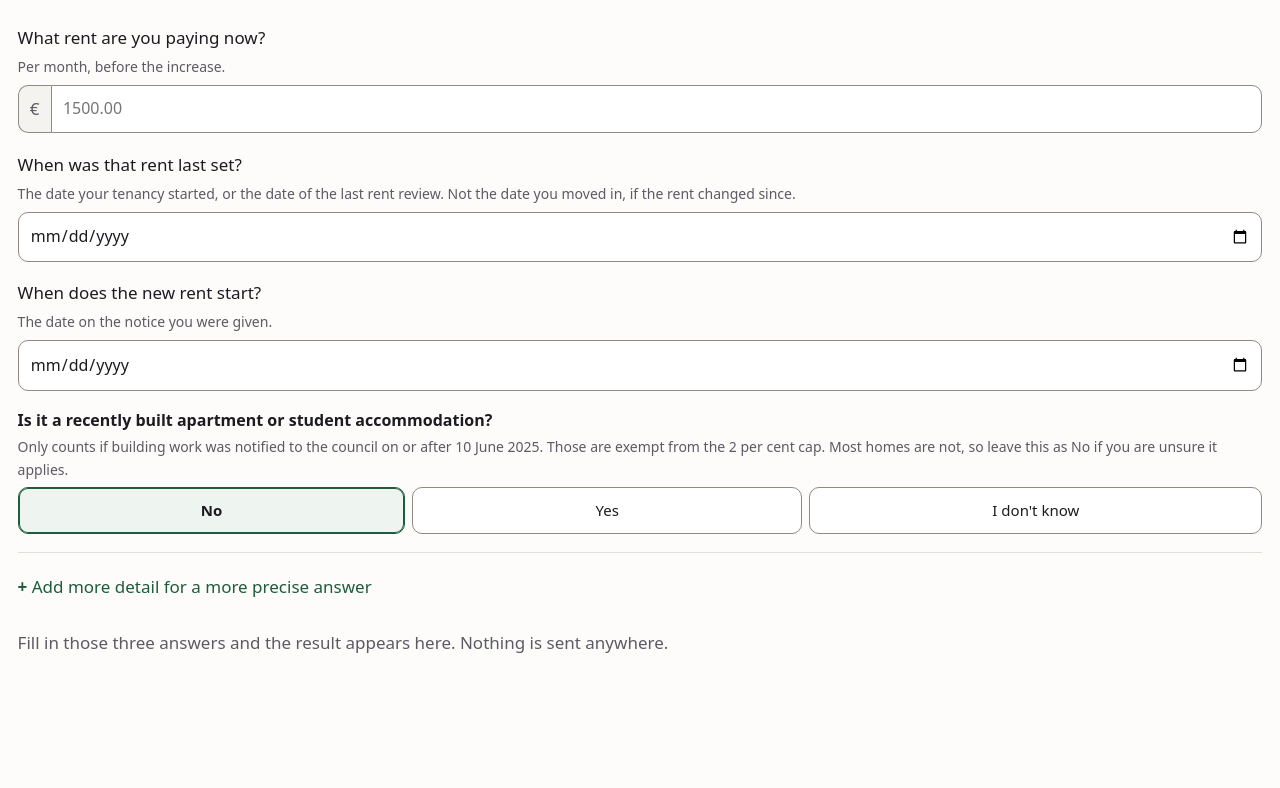
Test: the rent check, end to end through the form › judges a proposed rent that is over the limit, and says by how much
In the field labelled "What rent are you paying now?": (657, 109) [51,85,1262,133], type "2000"
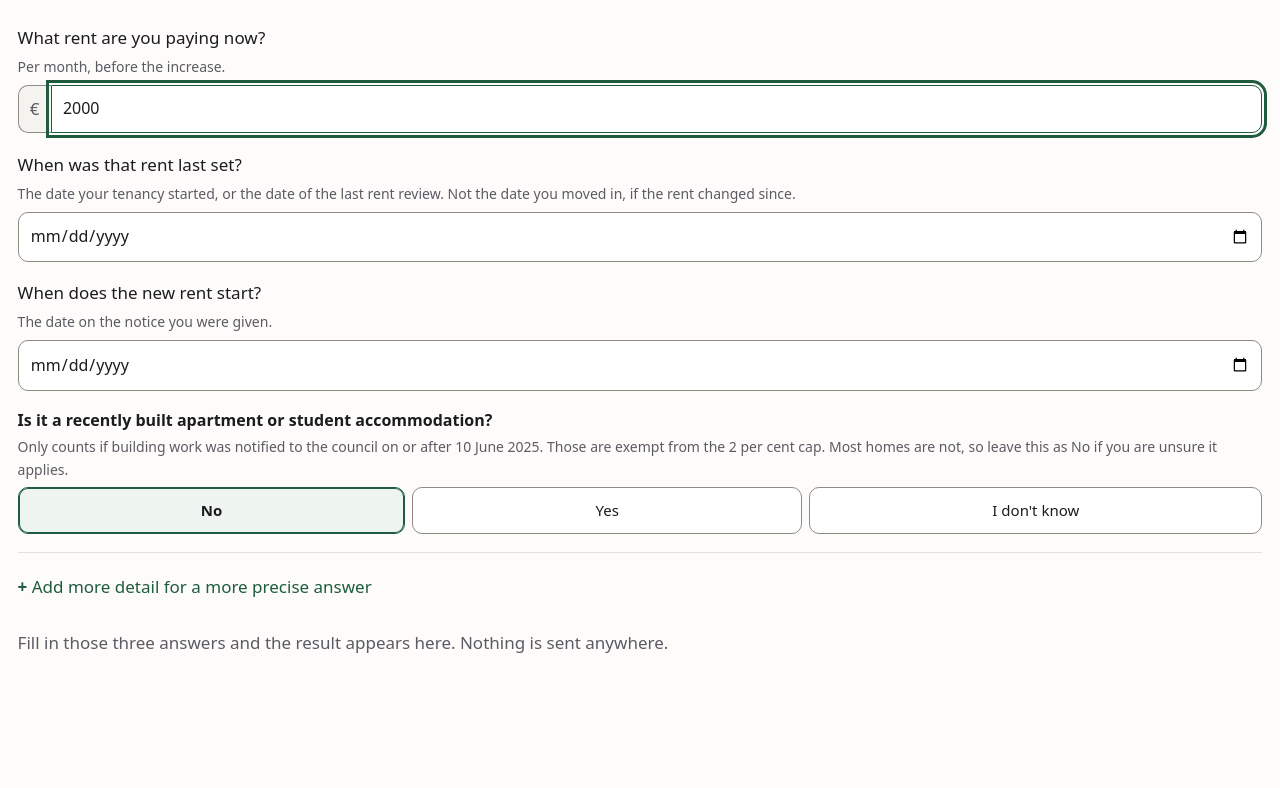
In the date field labelled "When was that rent last set?": (640, 237) [18,212,1262,262], type "2025-06-01"
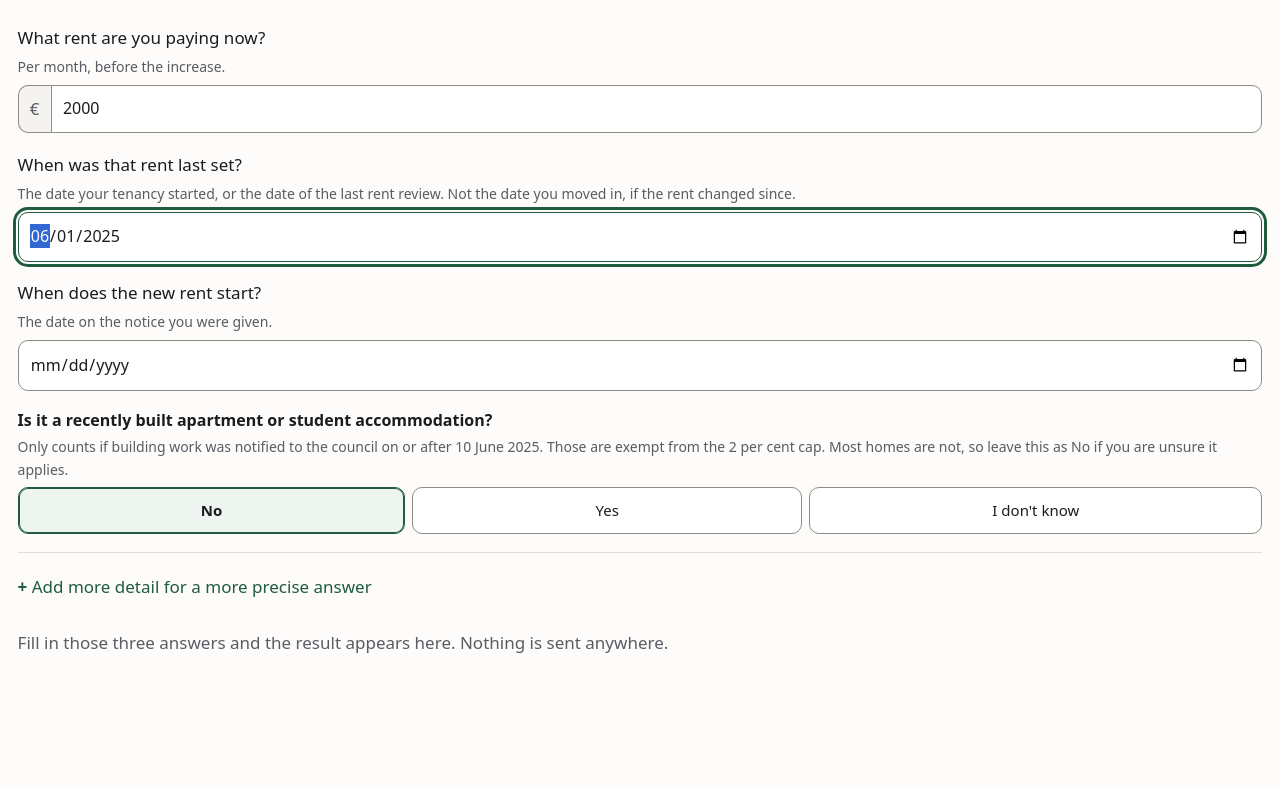
In the date field labelled "When does the new rent start?": (640, 365) [18,340,1262,391], type "2026-09-01"
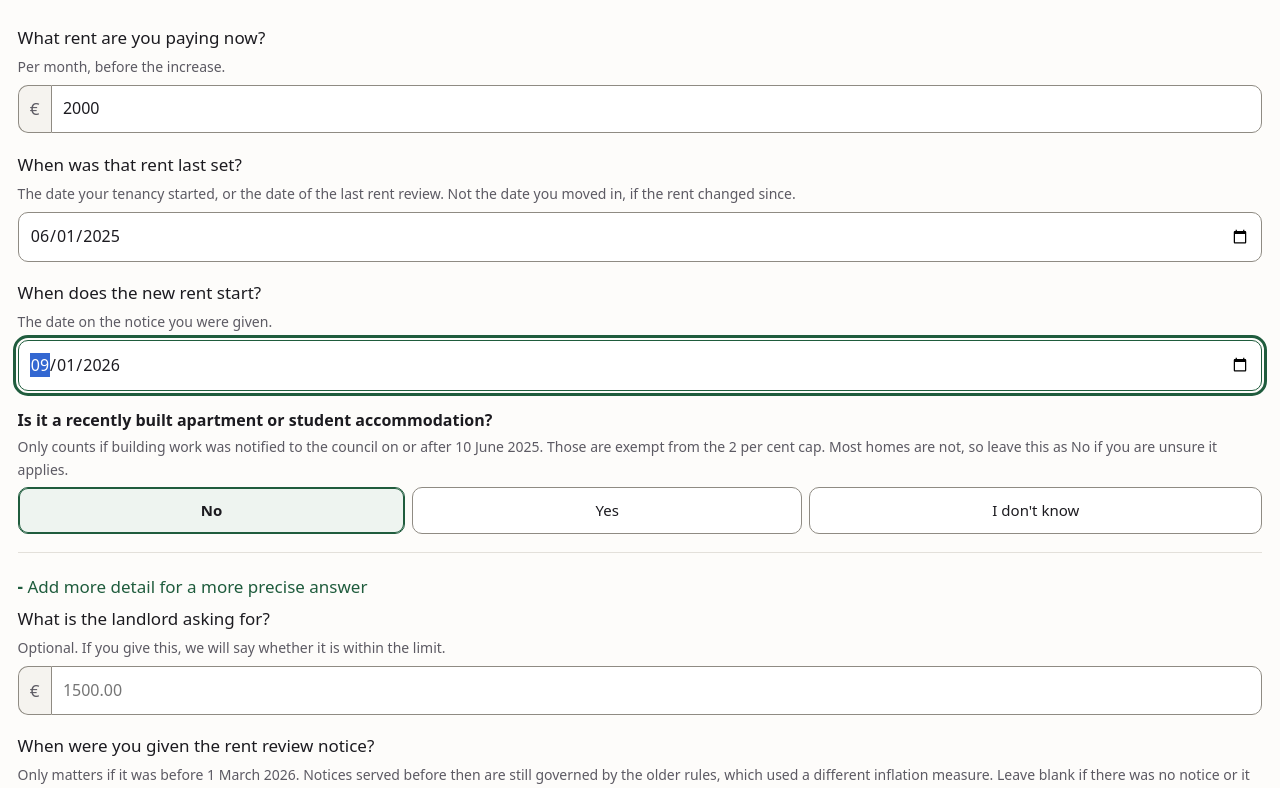
In the field labelled "What is the landlord asking for?": (657, 690) [51,666,1262,715], type "2200"
(page scrolled)
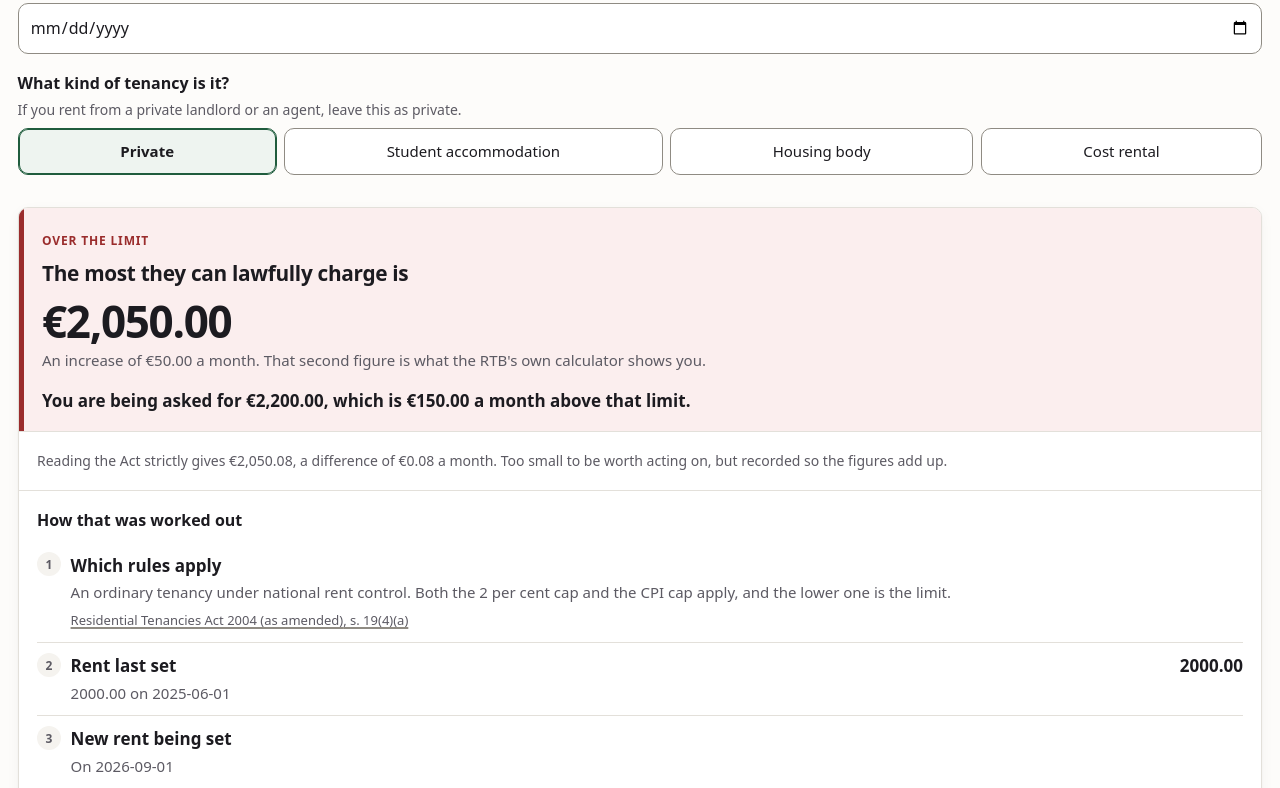
Now the text "Over the limit" is shown, box [42,231,149,250]
Now the text "€150.00 a month above that limit" is shown, box [42,388,690,412]
